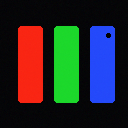0 point: (106, 33, 110, 37)
